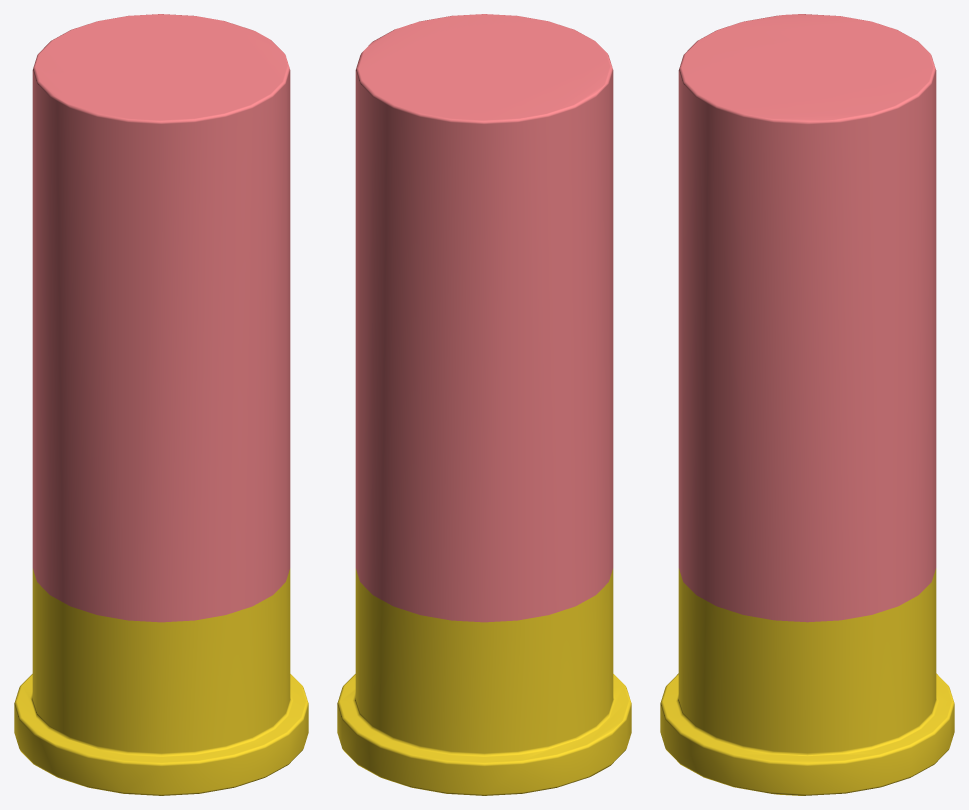
File: ammo_shotgun.glb
3 renders of one model, left to right at view 1: azimuth 30°, elevation 25°; view 2: azimuth 150°, elevation 25°; view 3: azimuth 270°, elevation 25°, orthographic.
Parts seen in each view (by area): view 1: ammo_shotgun; view 2: ammo_shotgun; view 3: ammo_shotgun.
Part boxes in pixels (x1,y1,x2,y2): ammo_shotgun: [14, 14, 308, 795]; ammo_shotgun: [337, 14, 631, 795]; ammo_shotgun: [660, 14, 954, 795].
Size of the model in its own units: 0.0306 by 0.0766 by 0.0306.
